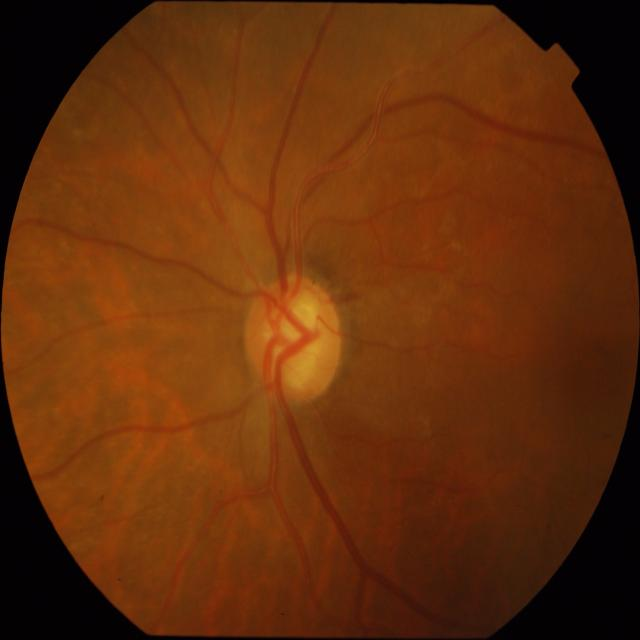OC: (263, 291, 320, 390)
OD: (242, 272, 342, 404)
